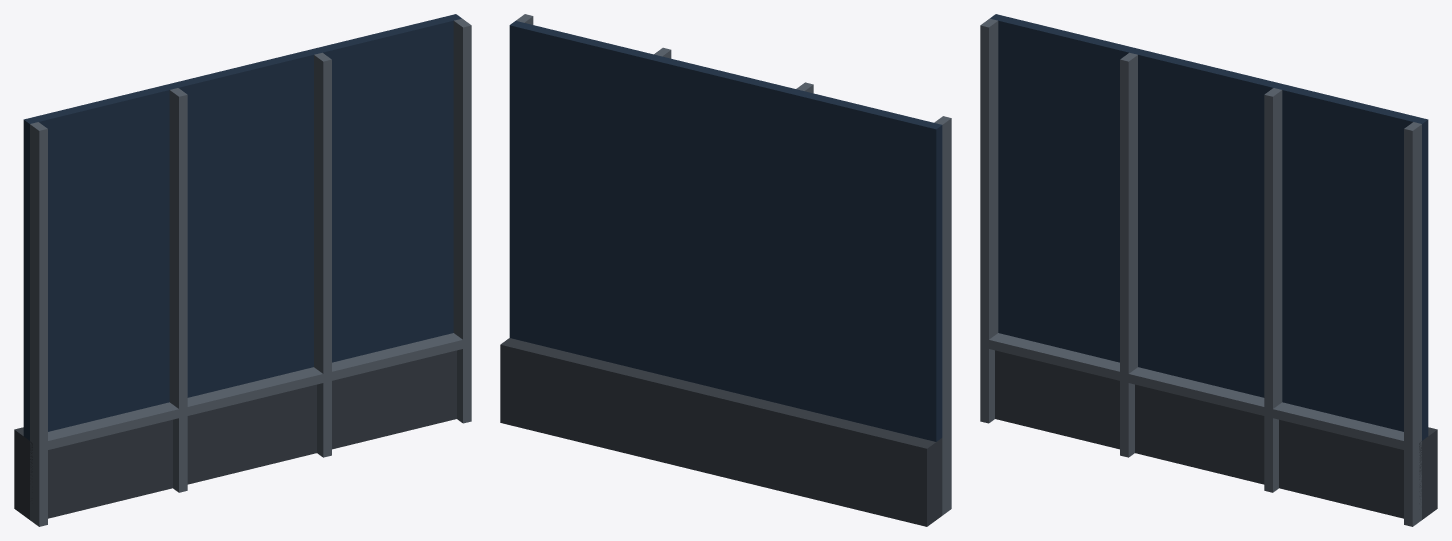
File: cg_win_d.glb
3 renders of one model, left to right at view 1: azimuth 30°, elevation 25°; view 2: azimuth 150°, elevation 25°; view 3: azimuth 330°, elevation 25°, orthographic.
Visible parts, largest first — view 1: city_cg_win_d; view 2: city_cg_win_d; view 3: city_cg_win_d.
Part boxes in pixels (<box>): city_cg_win_d: <box>14,14,471,526</box>; city_cg_win_d: <box>500,14,951,526</box>; city_cg_win_d: <box>980,14,1437,526</box>.
Size of the model in its own units: 4 by 3.5 by 0.4.
1 material, 1 textured.
